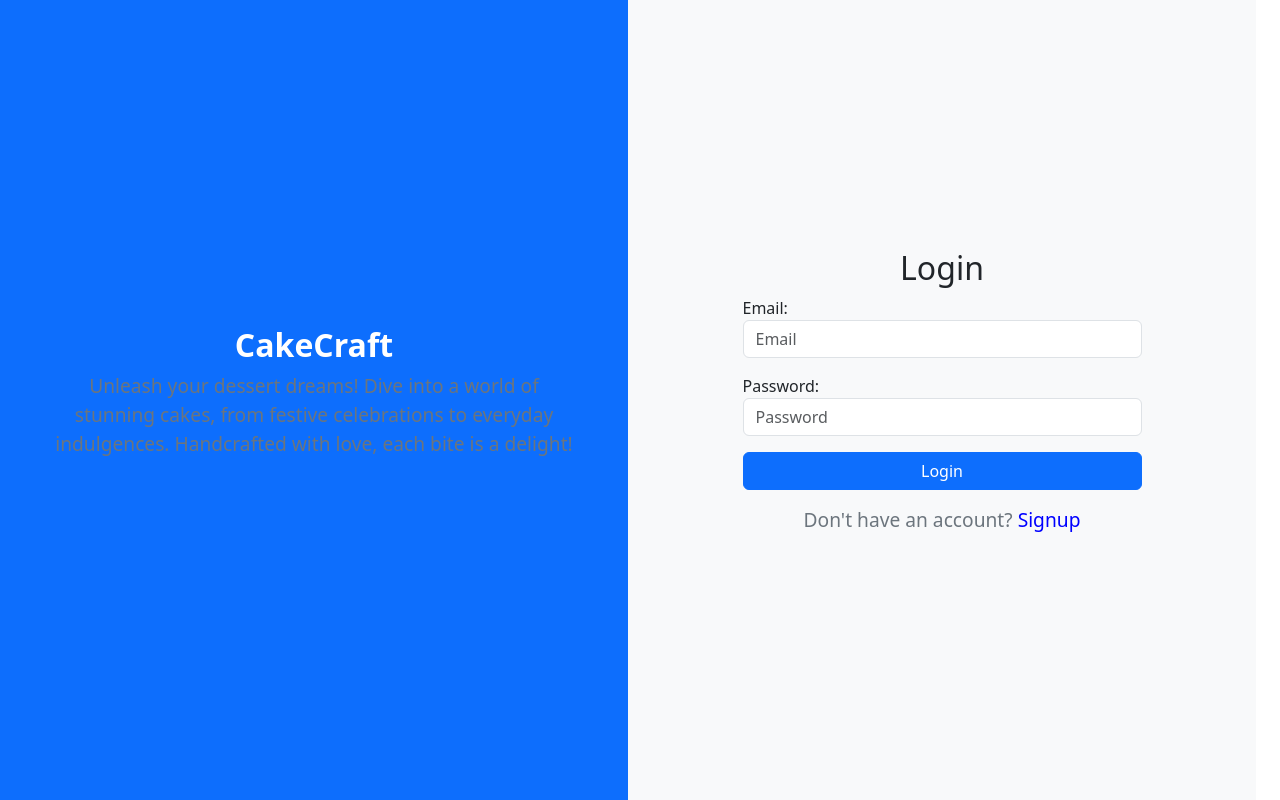
Test: Login Component › Frontend_login_component_displays_validation_messages_with_empty_fields
Click the button "Login". click: [942, 471]
box: [742,452,1142,490]
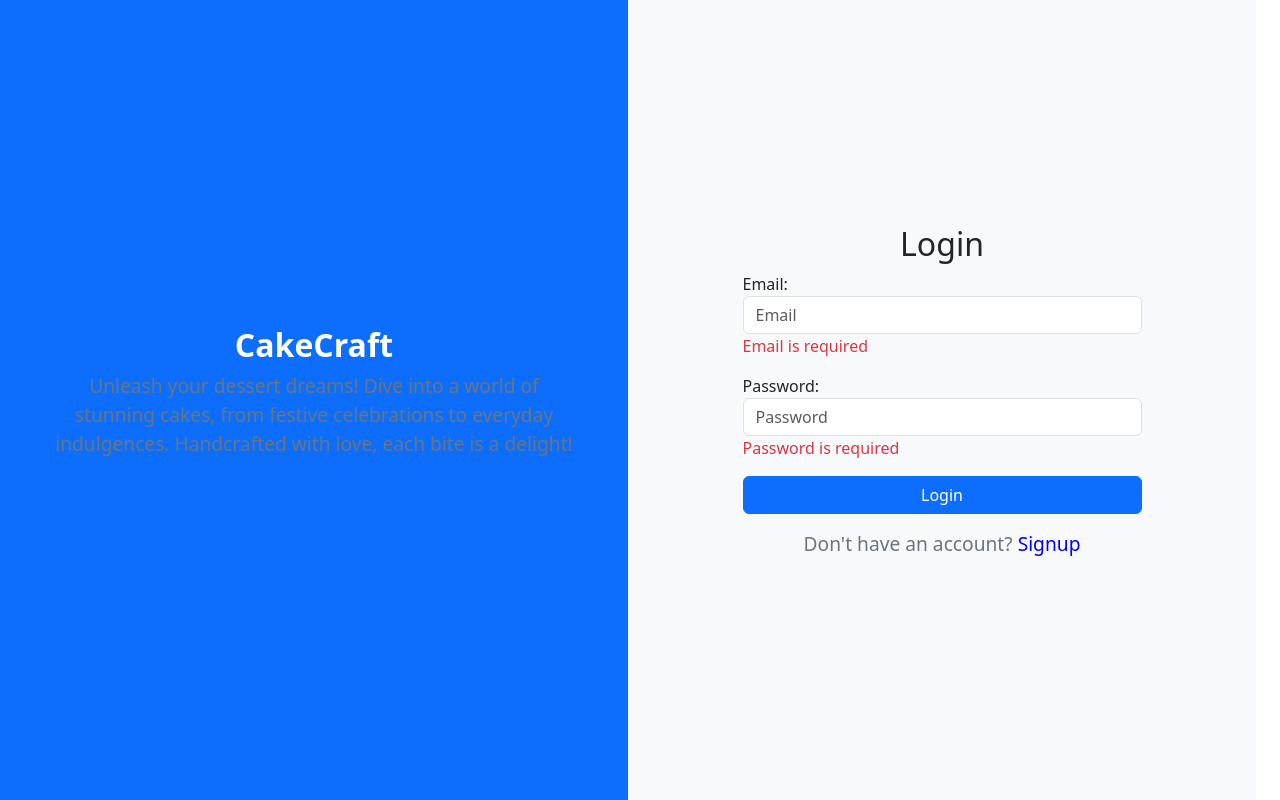
expect the text "Email is required" is shown: met, box [742,335,868,357]
expect the text "Password is required" is shown: met, box [742,437,899,459]
